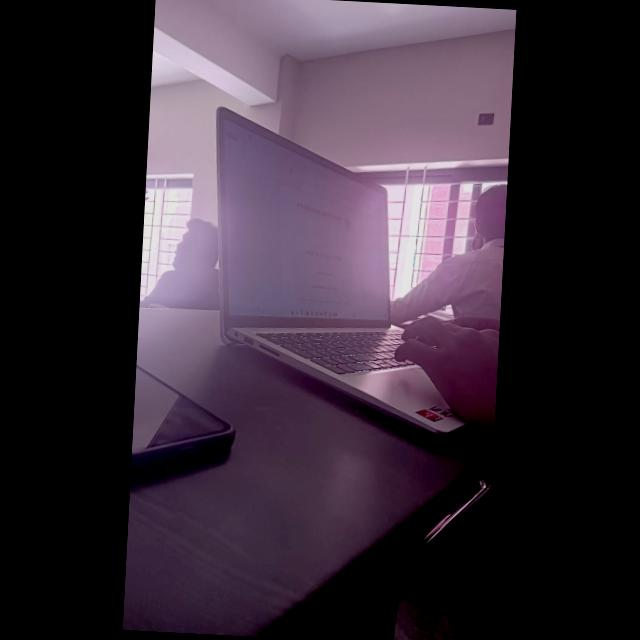laptop: (190, 106, 421, 364)
